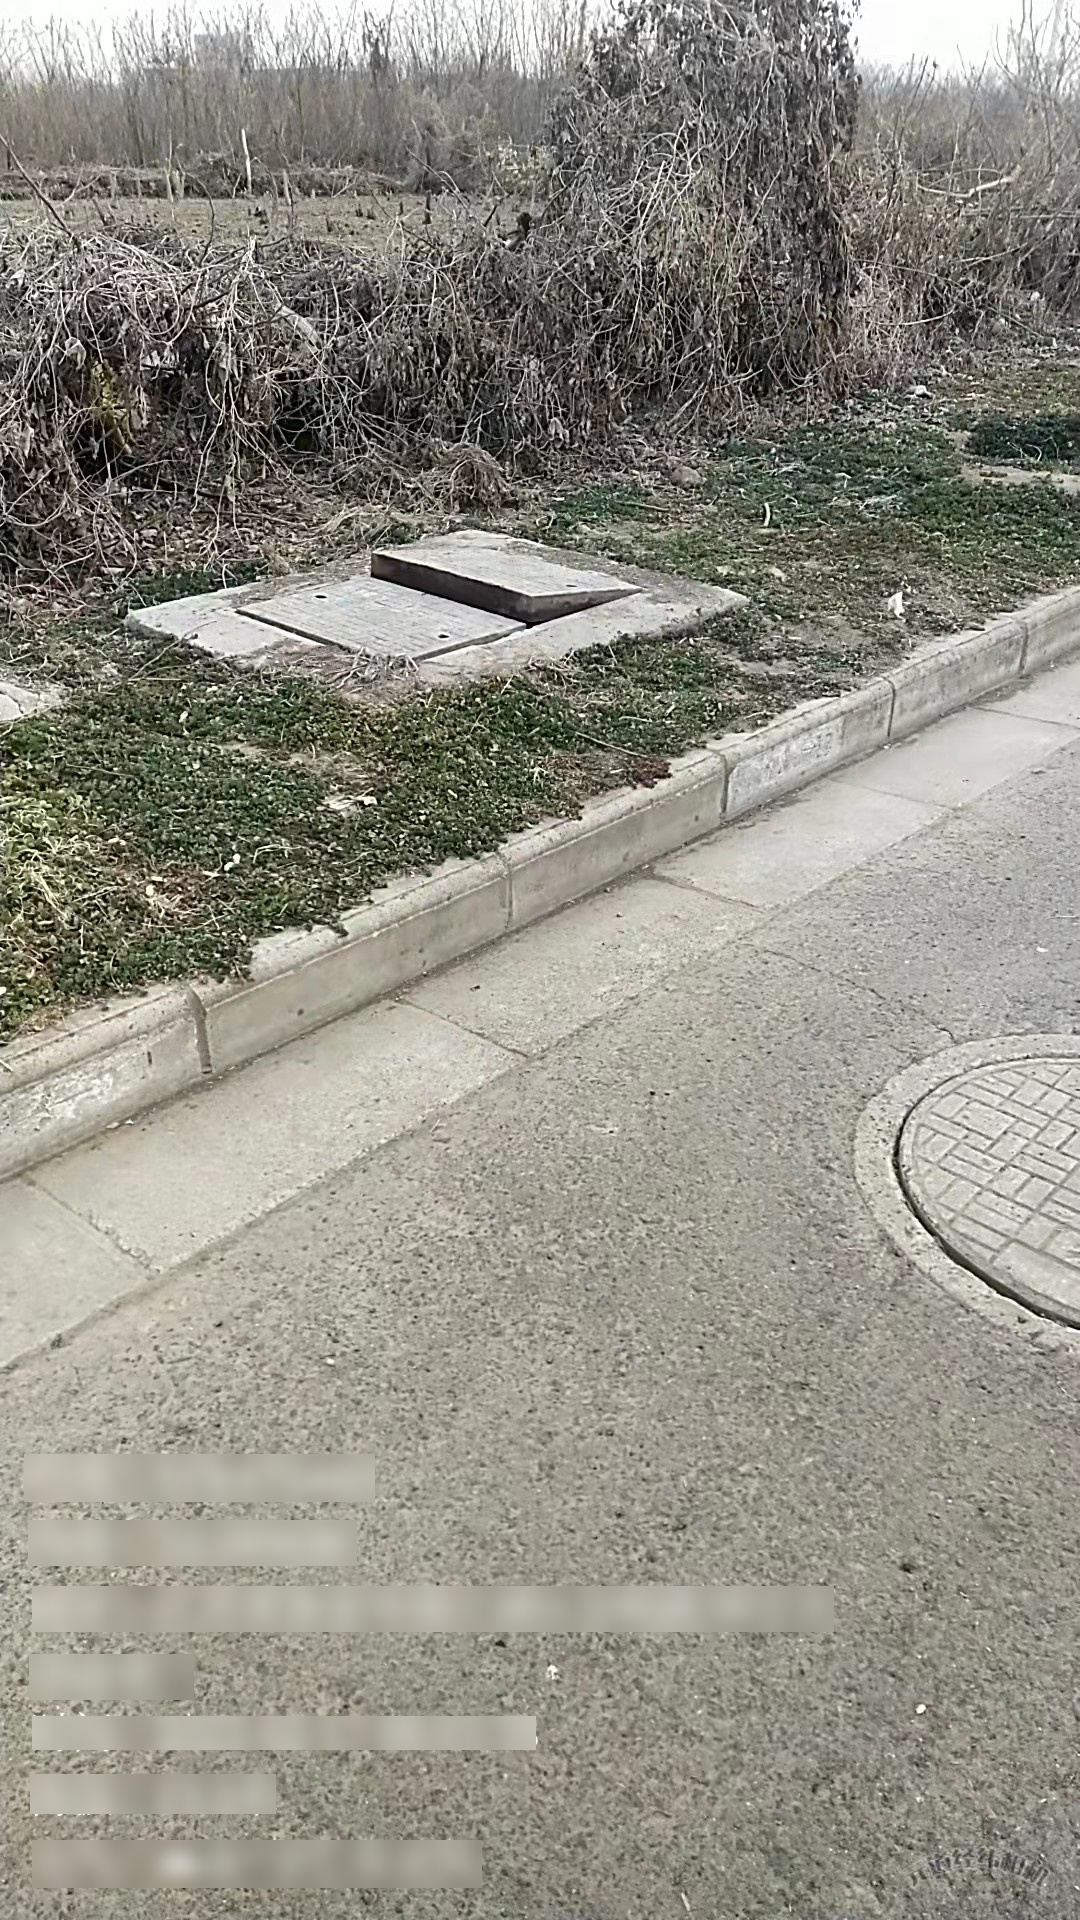good: (855, 1038, 1080, 1369)
uncovered: (229, 524, 630, 671)
